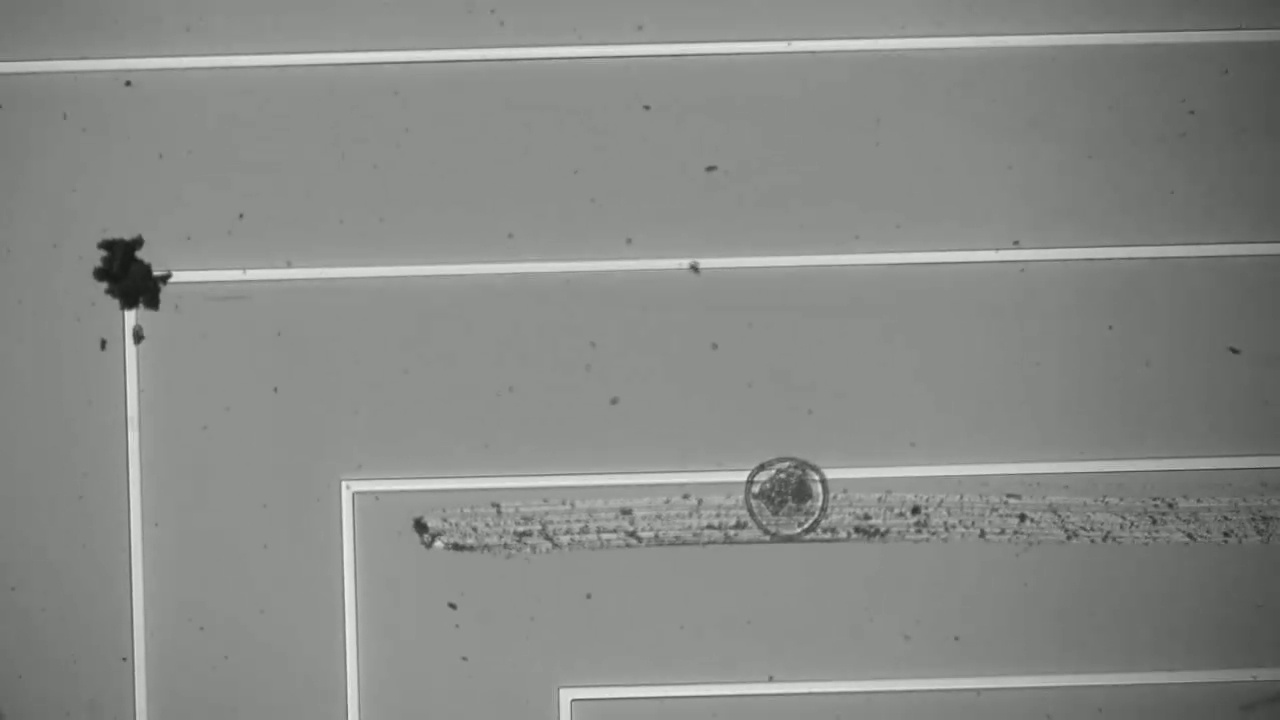stains_enbedded: (67, 221, 185, 338)
